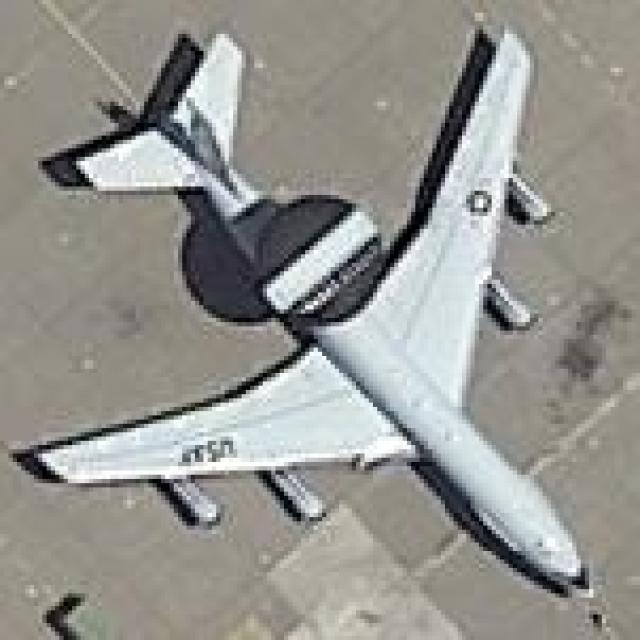E-3_TopDown: (9, 17, 598, 602)
